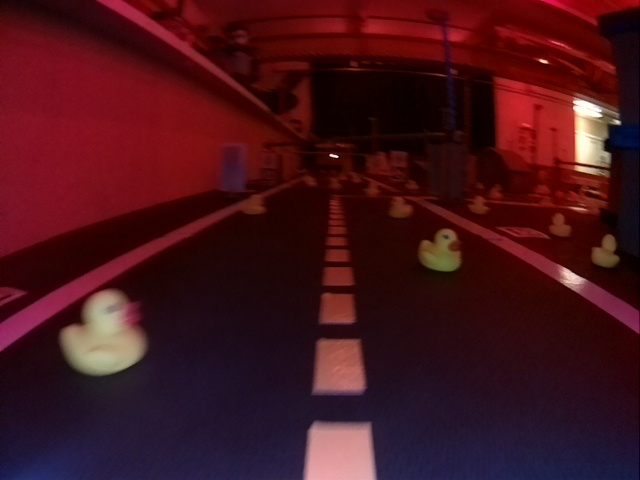Duckie: (62, 292, 148, 375), (418, 231, 462, 271), (592, 235, 620, 266), (551, 214, 572, 237), (241, 195, 266, 214), (389, 197, 413, 216), (467, 196, 489, 213)
QR code: (498, 224, 551, 242)
